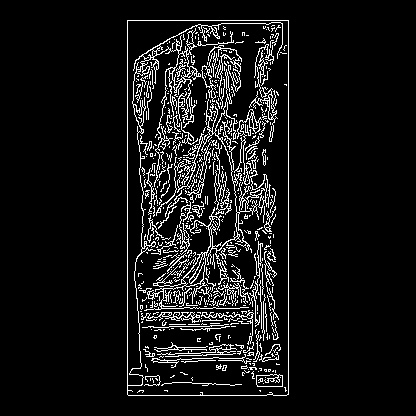buddha-sitting: (120, 206, 195, 352)
